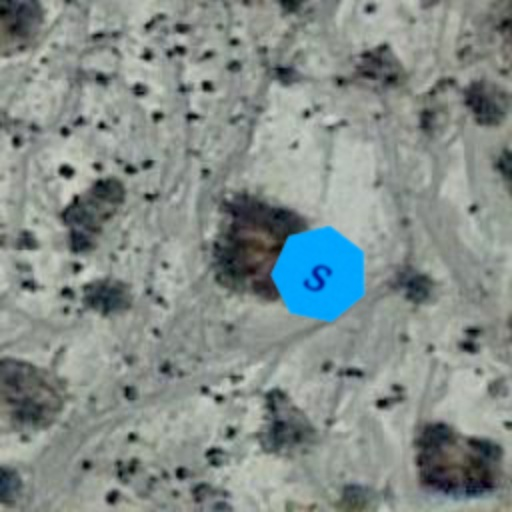heptagon: (254, 208, 386, 340)
